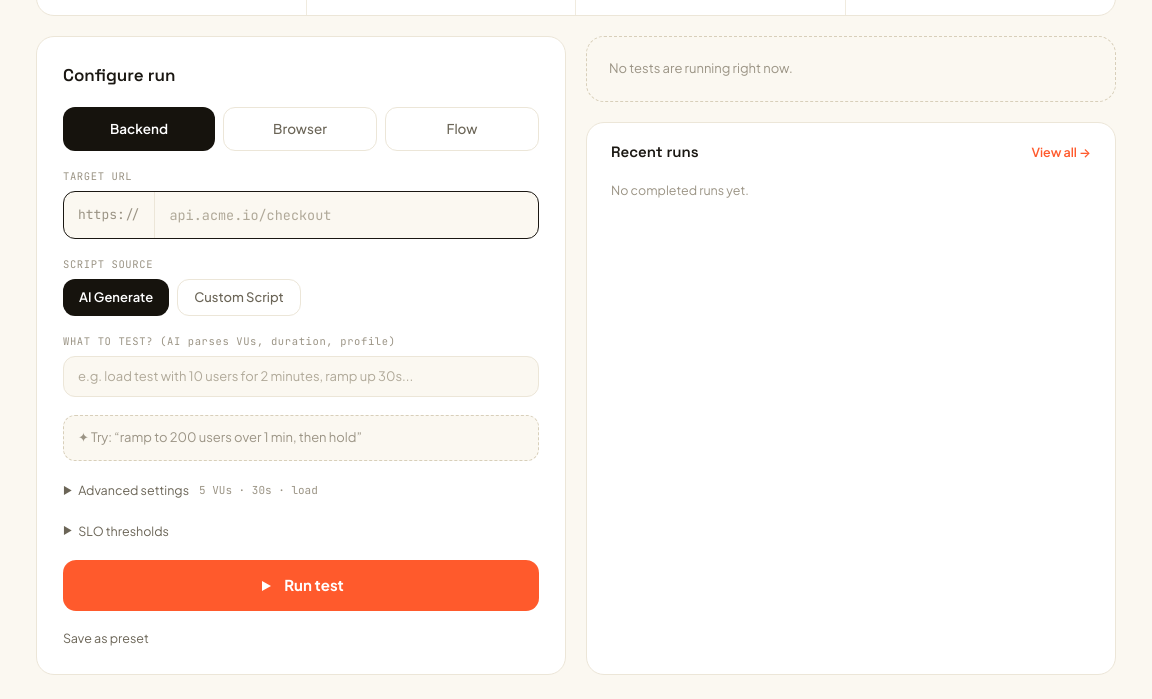
Test: Home page — form validation › shows URL required error when submitted without a URL
The image size is (1152, 699).
(page scrolled)
Click the button "Run test".
click(301, 586)  # box [63, 560, 539, 611]
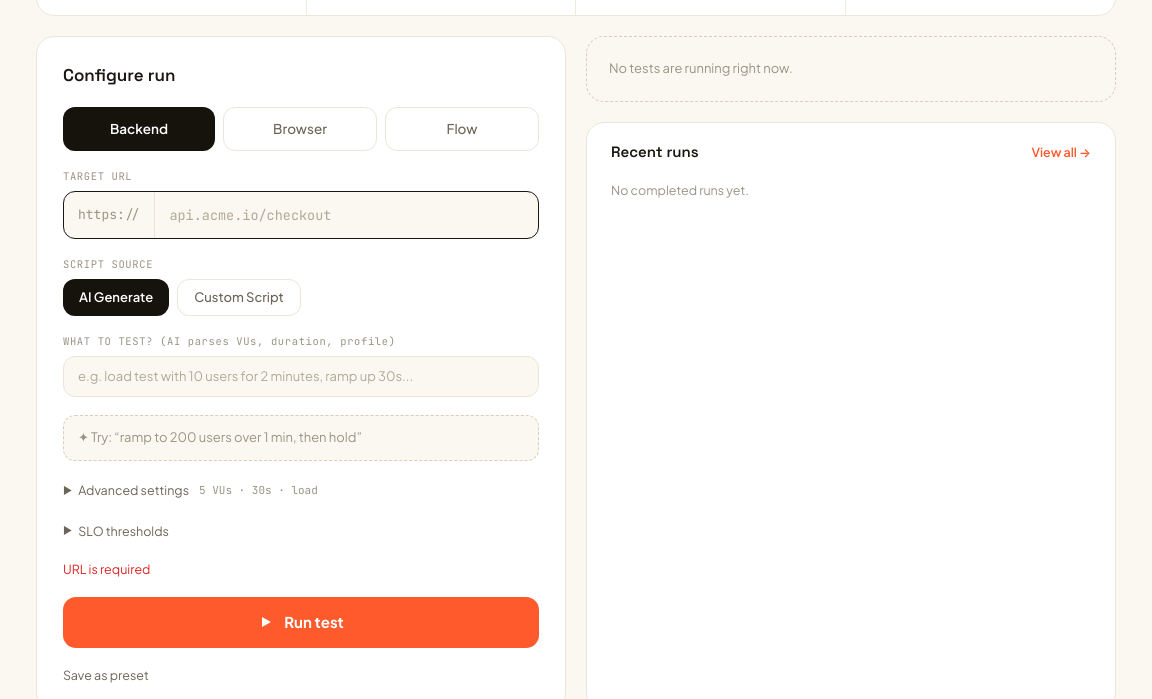
Check: the text "URL is required" is shown, box [63, 561, 150, 577]
